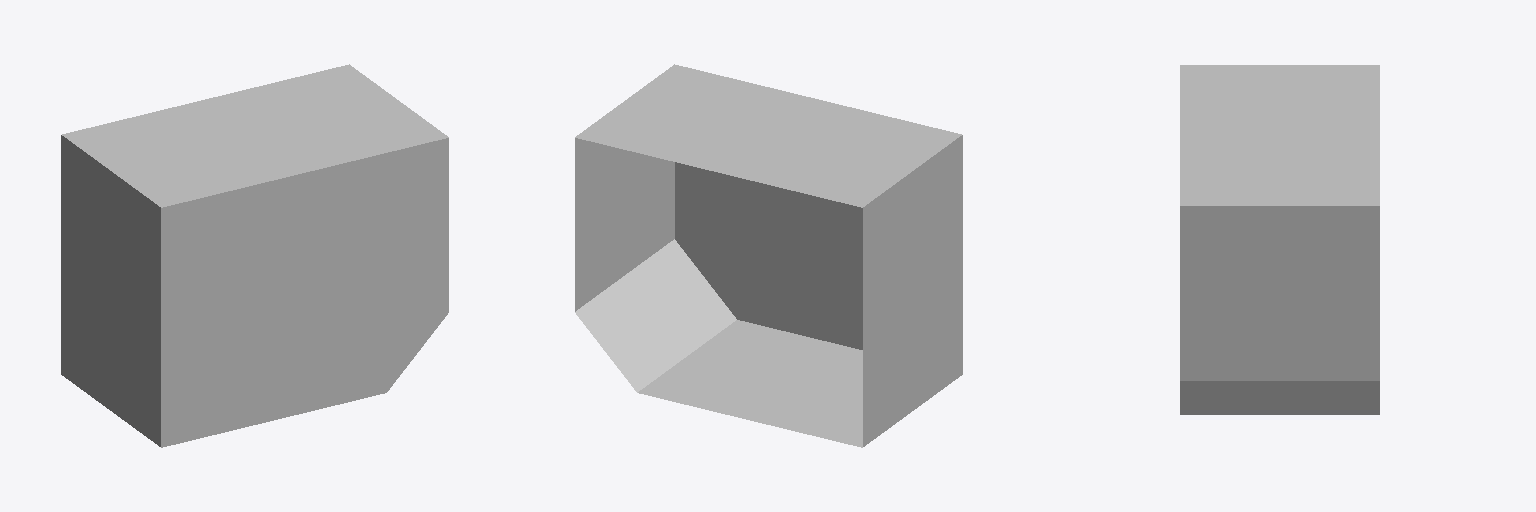
The model's file is building-18.obj.
The picture shows the model from 3 angles: view 1: azimuth 30°, elevation 25°; view 2: azimuth 150°, elevation 25°; view 3: azimuth 270°, elevation 25°; orthographic projection.
Bounding box in the file's own units: 6.91 × 5.5 × 4.16.